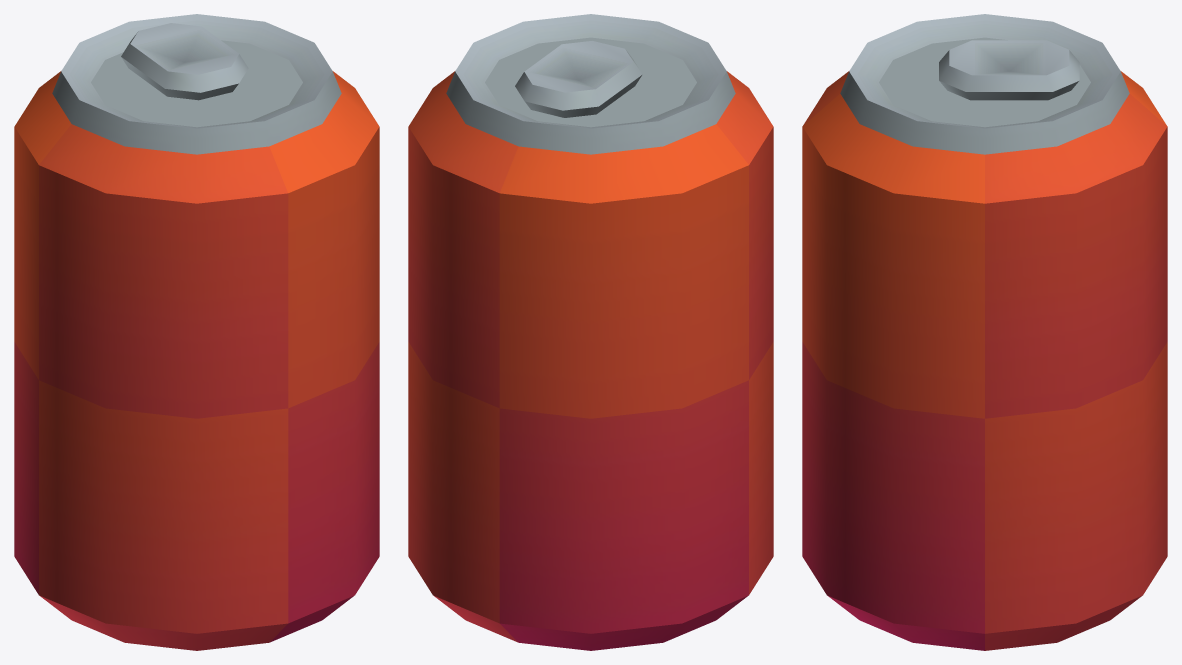
Rendered from kaykit-prototype-bits-can-b.glb.
3 views of the same model, side by side, from view 1: azimuth 30°, elevation 25°; view 2: azimuth 150°, elevation 25°; view 3: azimuth 270°, elevation 25° (orthographic).
Parts seen in each view (by area): view 1: Can_B; view 2: Can_B; view 3: Can_B.
Part boxes in pixels (left/top/right/bottom): Can_B: left=14, top=14, right=379, bottom=650; Can_B: left=408, top=14, right=773, bottom=650; Can_B: left=802, top=14, right=1167, bottom=650.
Bounding box in the file's own units: 0.3 × 0.4823 × 0.3.
1 material, 1 textured.
